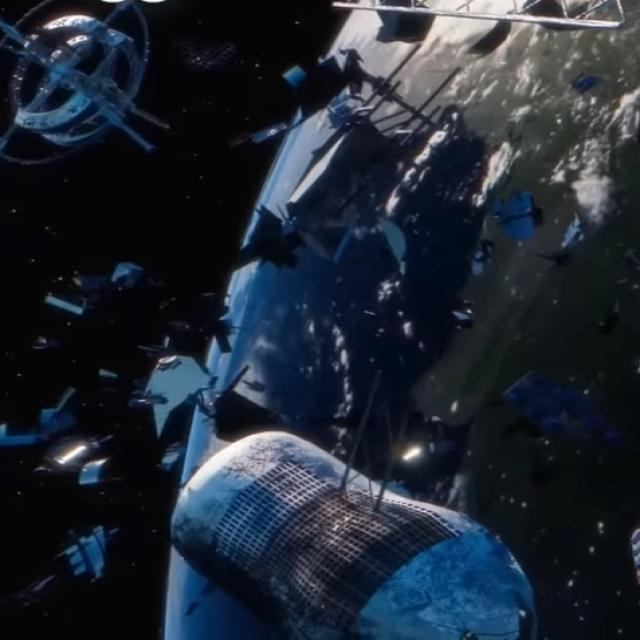large_debris: (160, 410, 548, 640), (228, 50, 522, 323), (2, 1, 174, 179), (121, 283, 290, 447), (322, 5, 640, 59), (0, 377, 118, 495), (15, 511, 127, 609), (23, 267, 101, 325), (105, 252, 149, 296)
